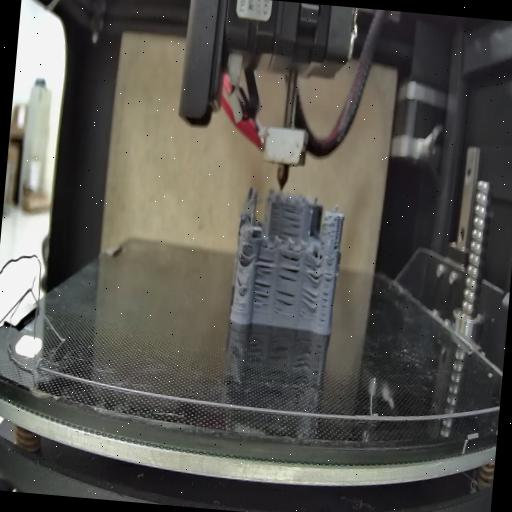cracks: (273, 254, 300, 315), (252, 256, 274, 310), (318, 262, 336, 322), (279, 202, 302, 240), (300, 286, 319, 314), (303, 261, 323, 284), (237, 246, 253, 264), (236, 272, 244, 292), (333, 234, 341, 250)
